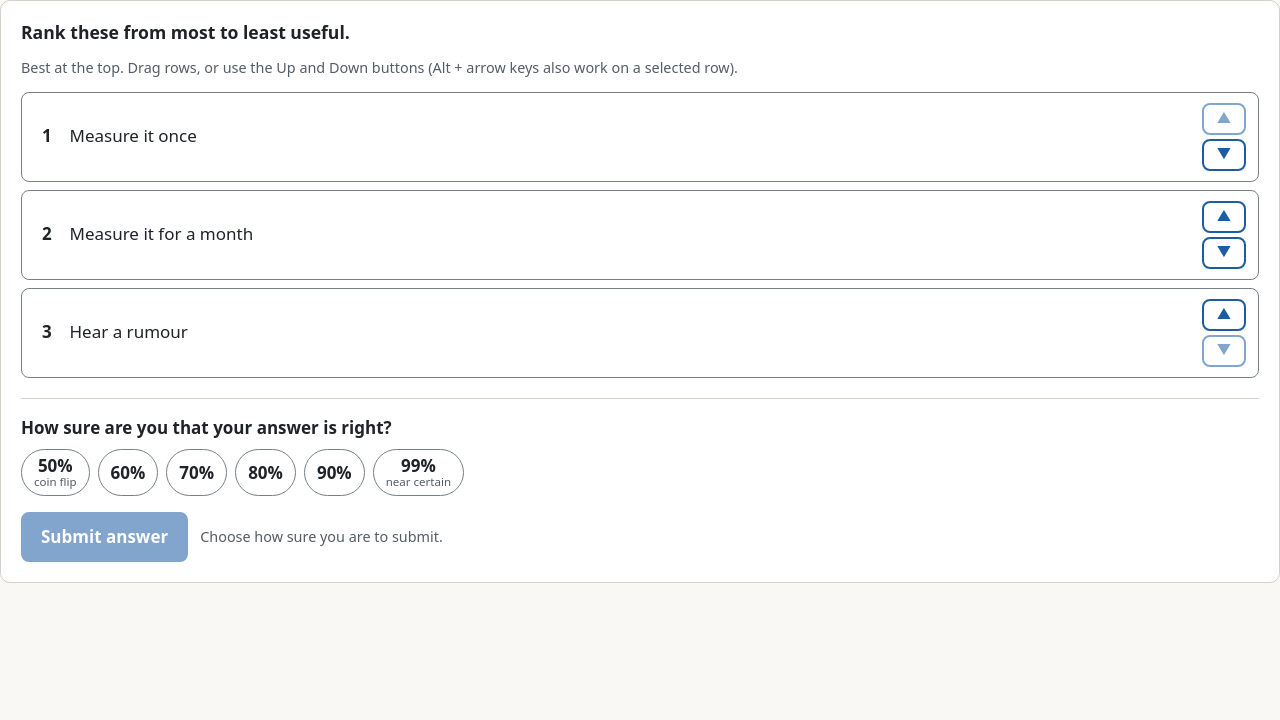
Scenario: RankList › reorders with Up/Down buttons and scores the order
Click the button named "Move “Measure it for a month” up" at (1224, 216), box [1202, 200, 1246, 232]
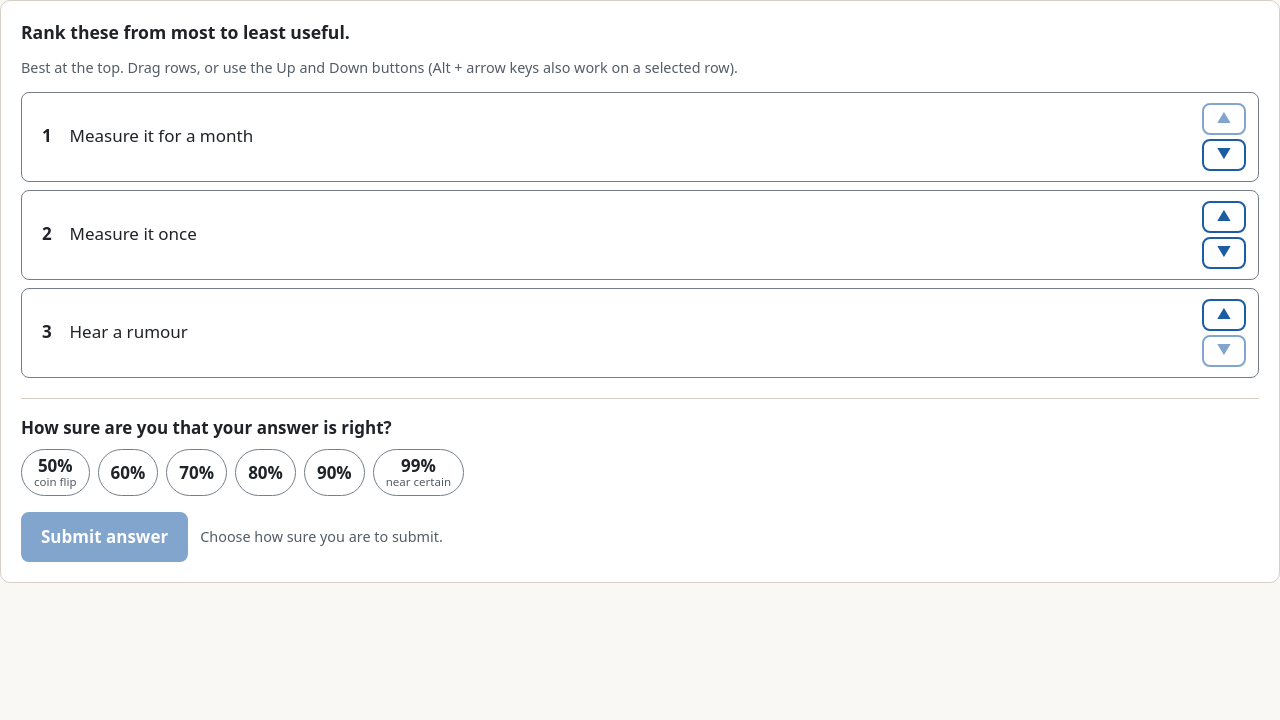
Click the radio button labelled "80%" at (266, 472), box [235, 449, 296, 496]
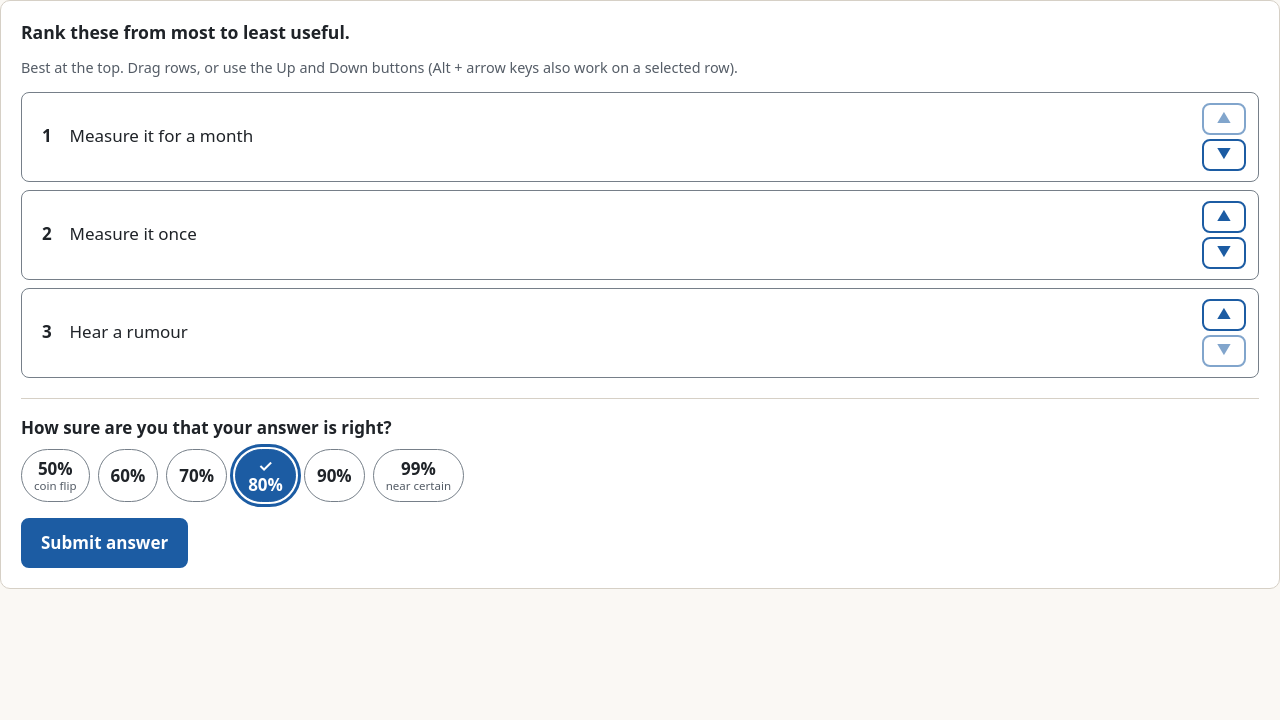
Click the button "Submit answer" at (105, 543), box [21, 518, 188, 568]
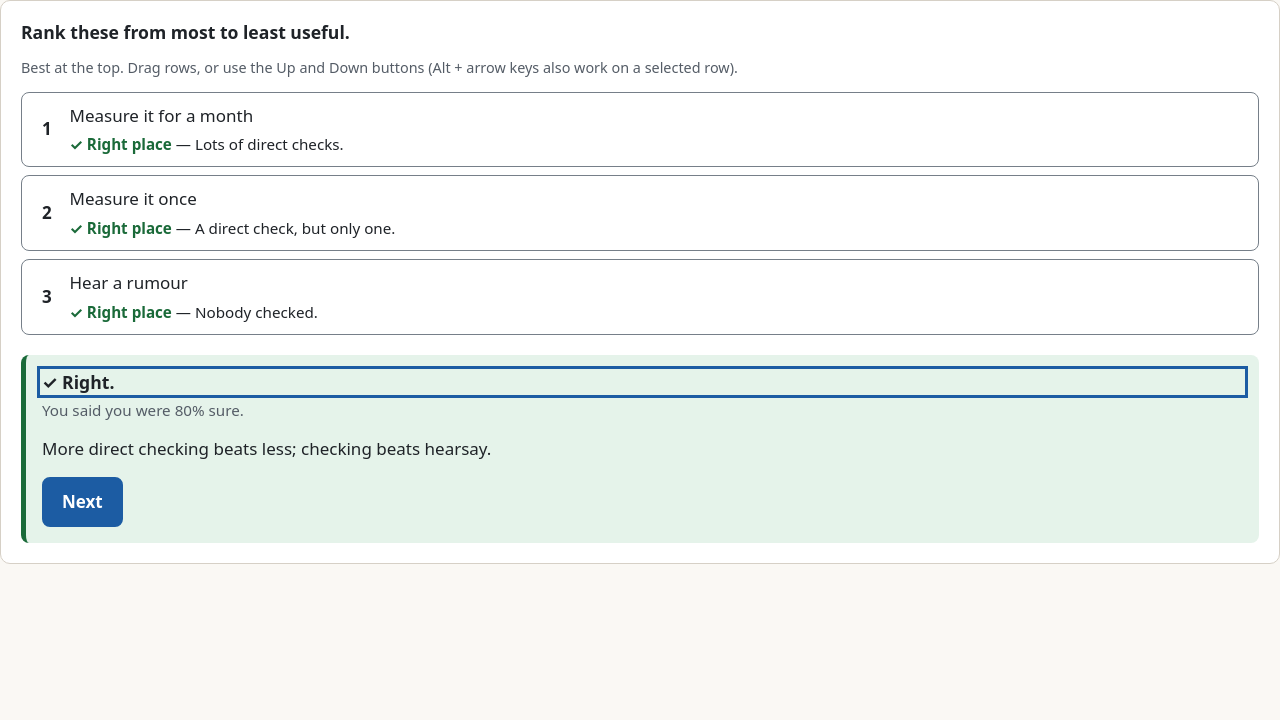
Check: the text "More direct checking beats less; checking beats hearsay." is shown, box [42, 437, 491, 460]
